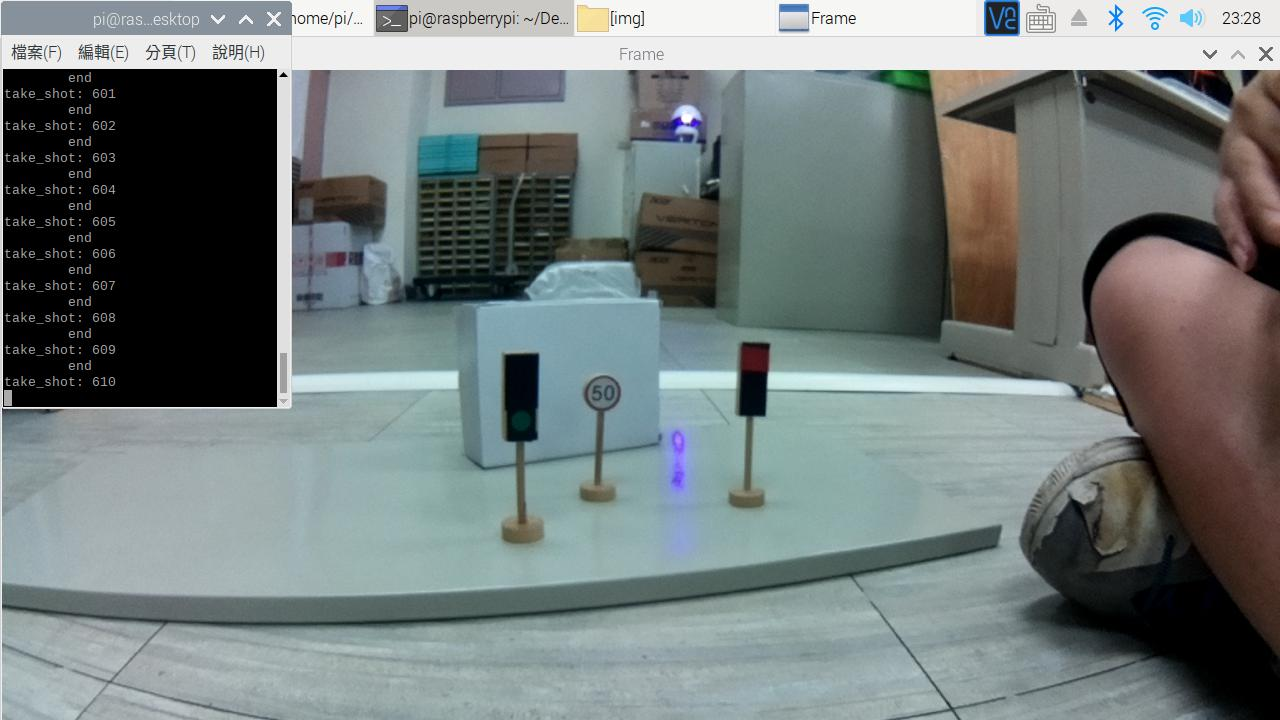Green: (487, 342, 553, 457)
Red: (720, 330, 786, 436)
Speed50: (573, 369, 630, 416)
